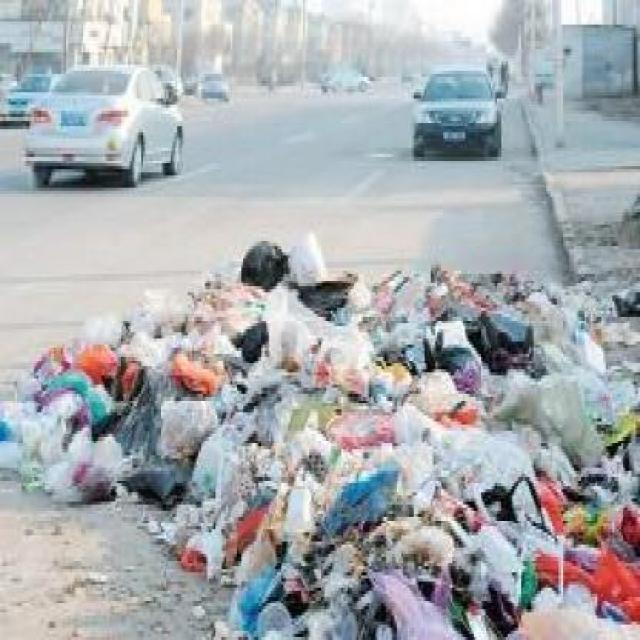garbage: (46, 330, 622, 496), (242, 511, 630, 637), (217, 265, 616, 339)
